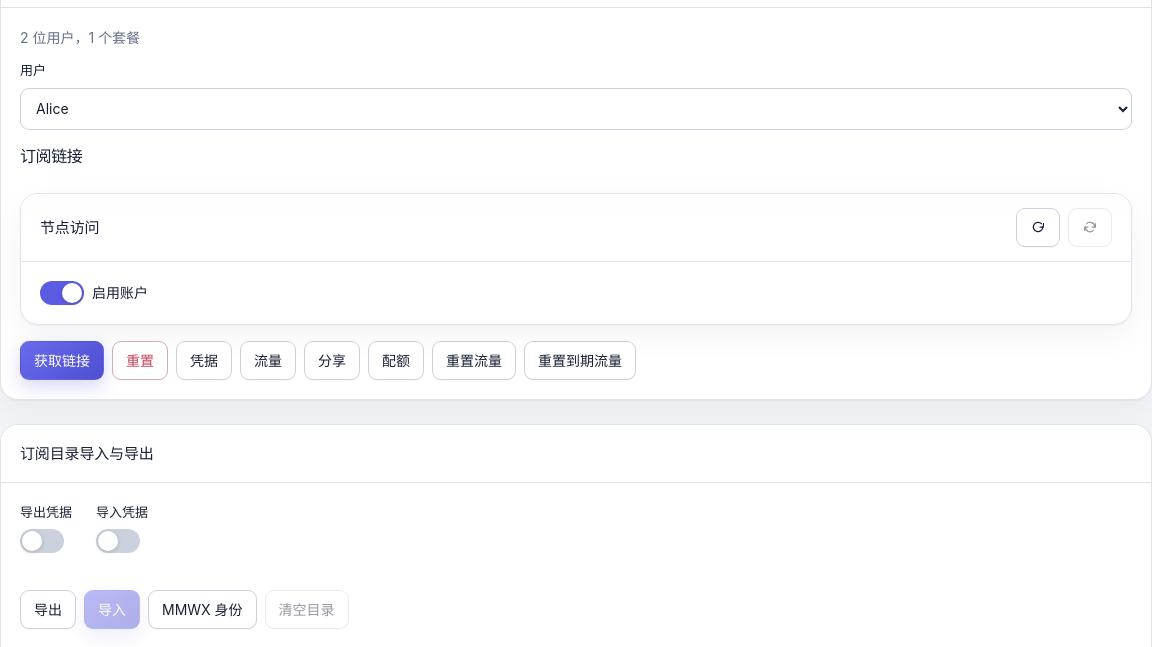
Test: React subscriptions view › drops late credential reads and clears an already shown secret on user change
The image size is (1152, 647).
(page scrolled)
Click the button "凭据": [204, 360] box [176,341,232,380]
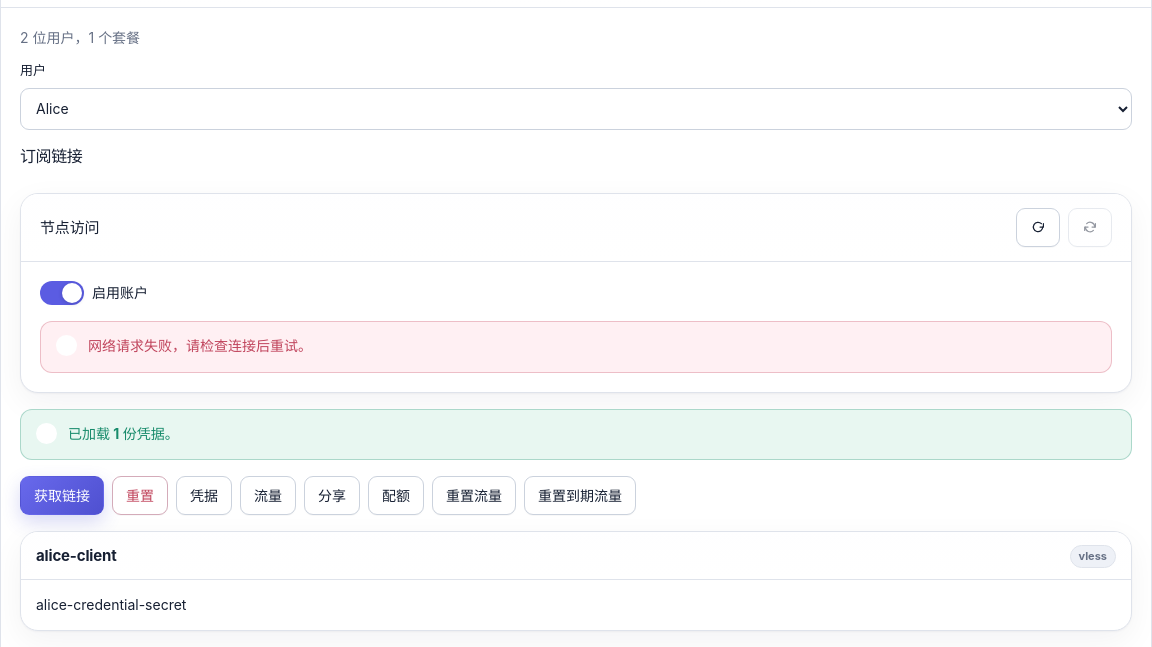
Expected: the text "alice-credential-secret" is shown, [36,596,186,613]
Click the button "凭据": [204, 496] box [176,476,232,515]
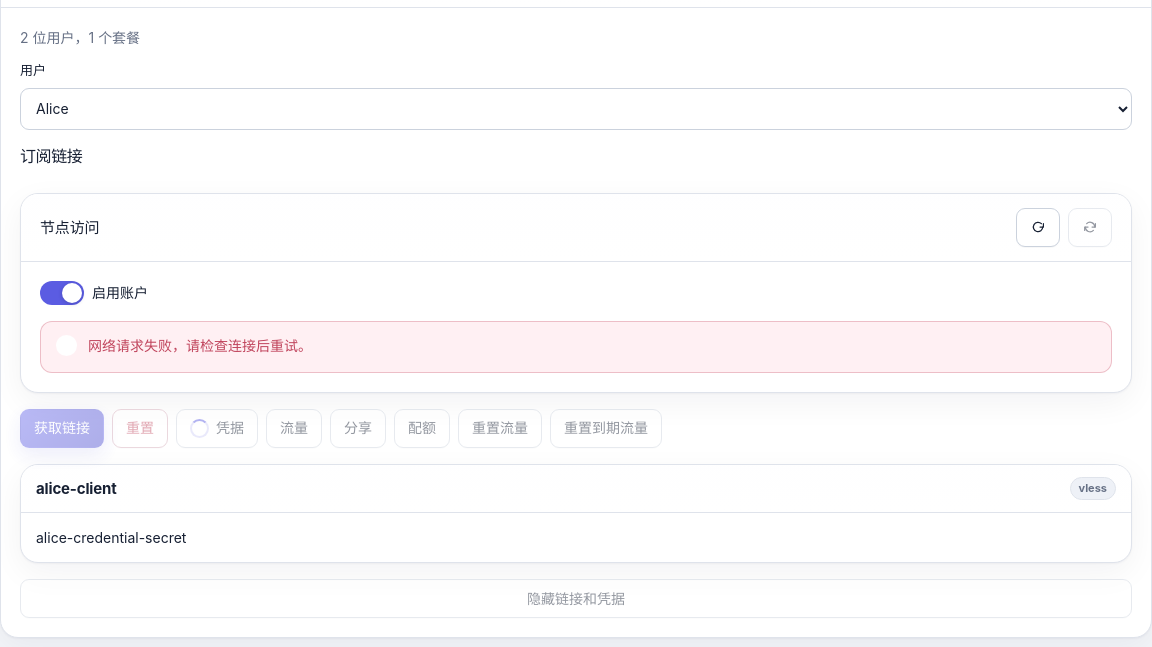
Select "Bob" in the dropdown named "订阅用户": [576, 108] box [20,88,1132,130]
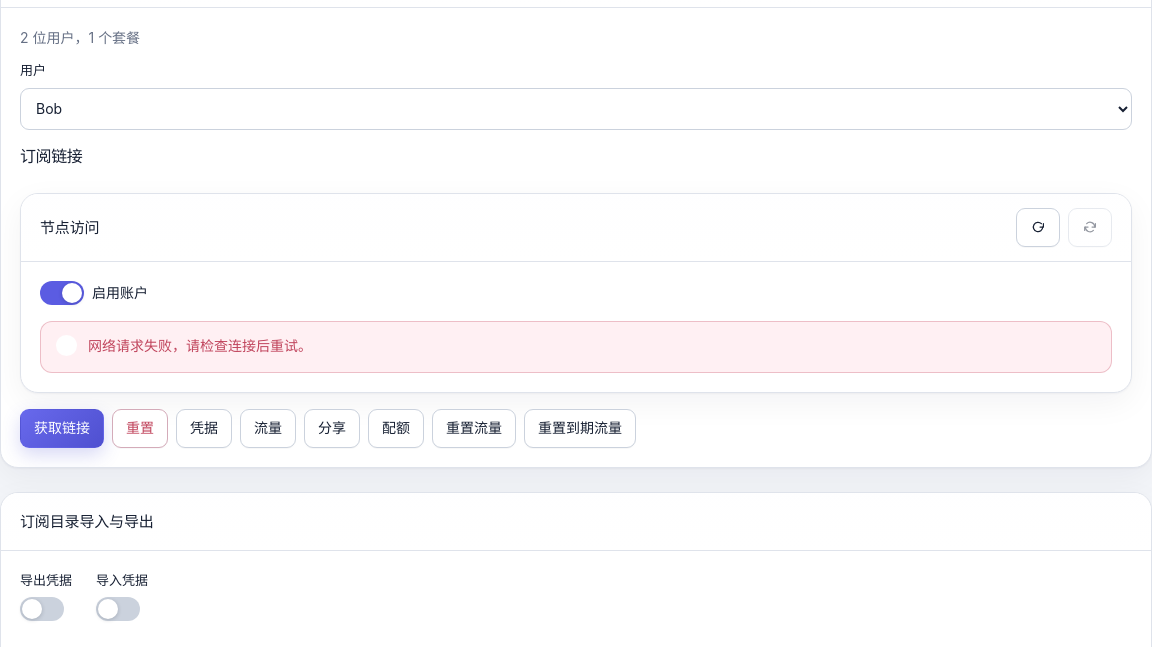
Expected: the text "alice-credential-secret" is gone
